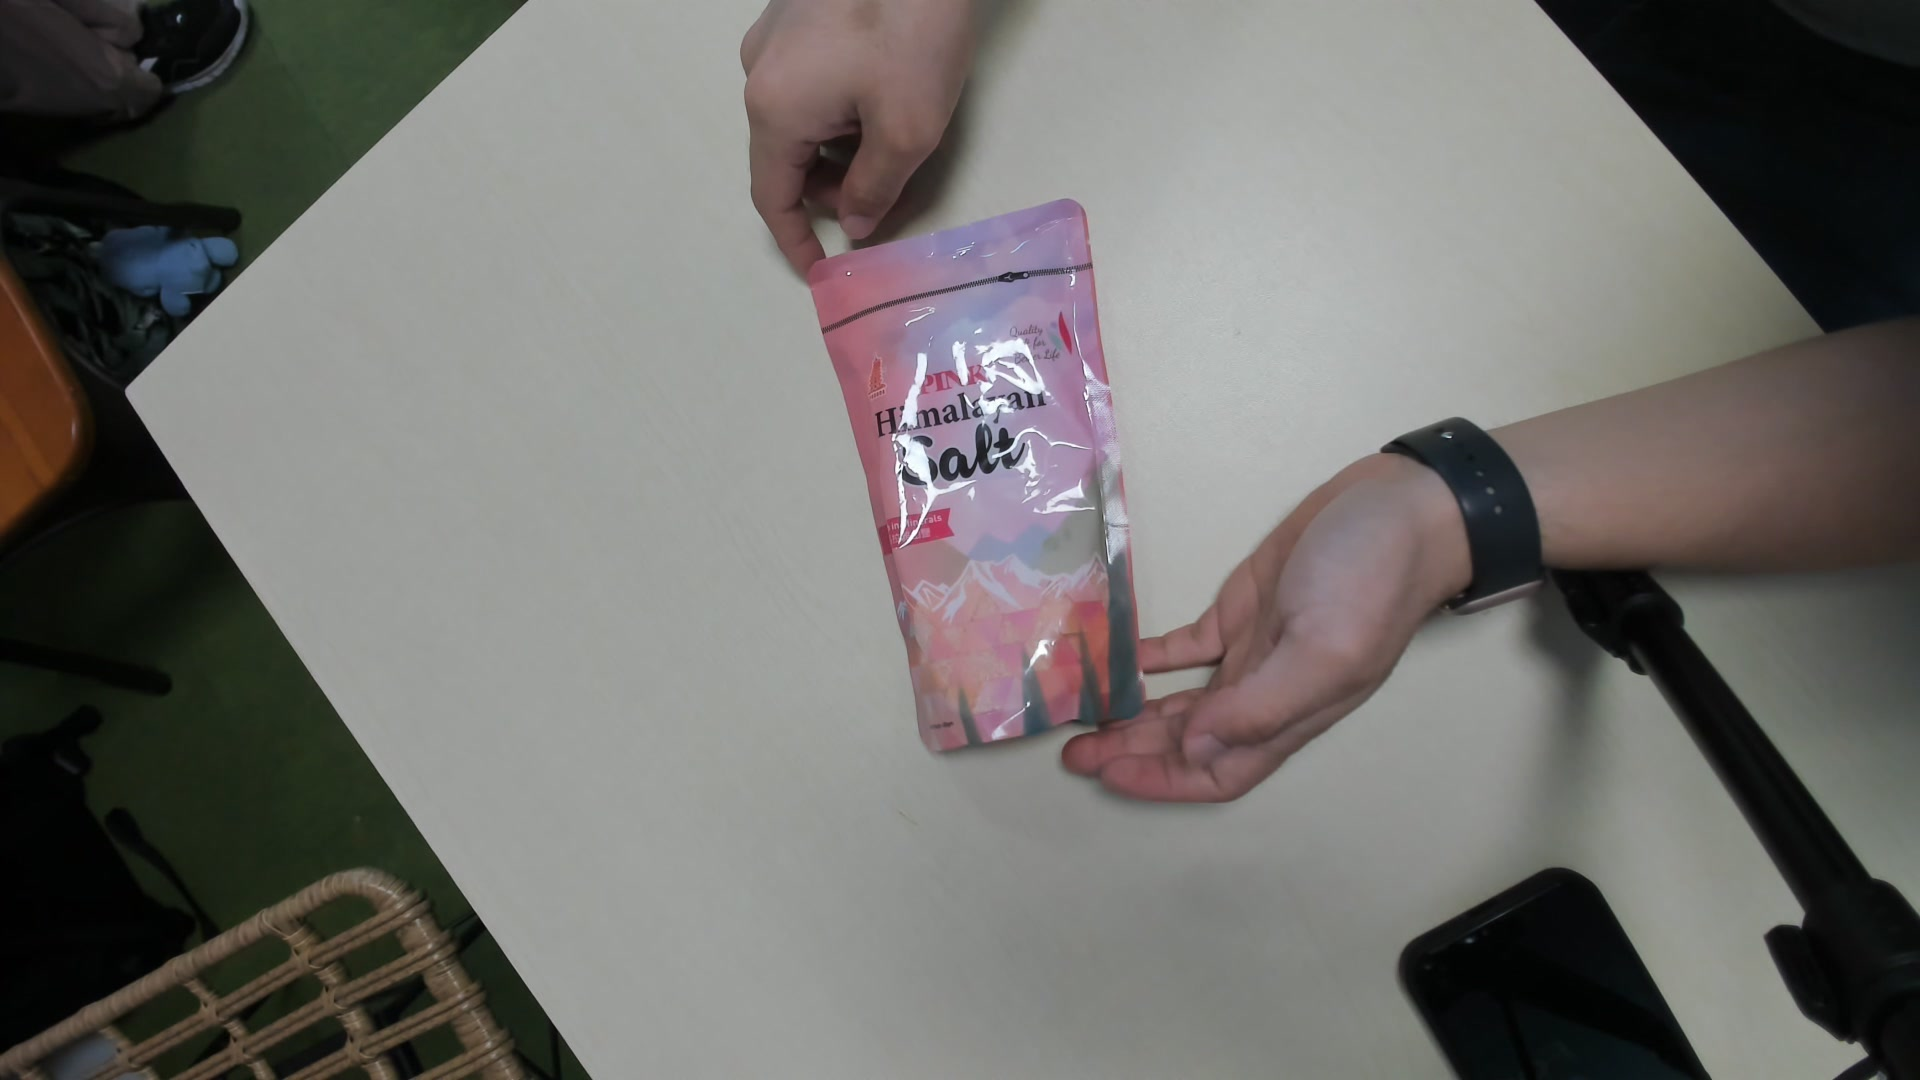Salt_400-499g_NonHalal_NonHealthy: (818, 206, 1142, 760)
